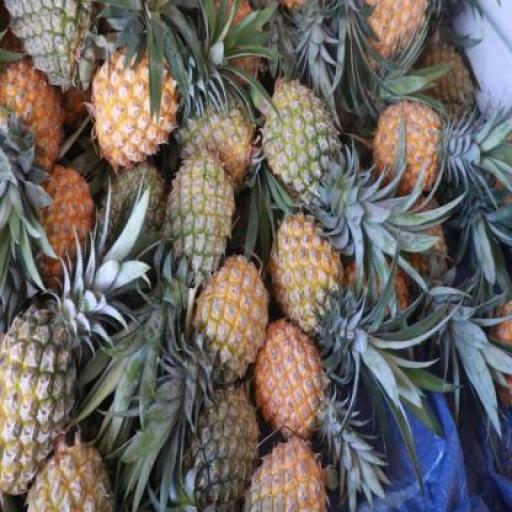------------------------------: (0, 314, 84, 490), (263, 80, 340, 208), (194, 255, 268, 386), (163, 154, 233, 288), (255, 321, 327, 448), (178, 95, 255, 182), (245, 434, 331, 511)
Pineapple - v8 v1: (88, 47, 174, 172), (270, 214, 344, 330), (0, 56, 68, 168), (374, 103, 442, 201)
